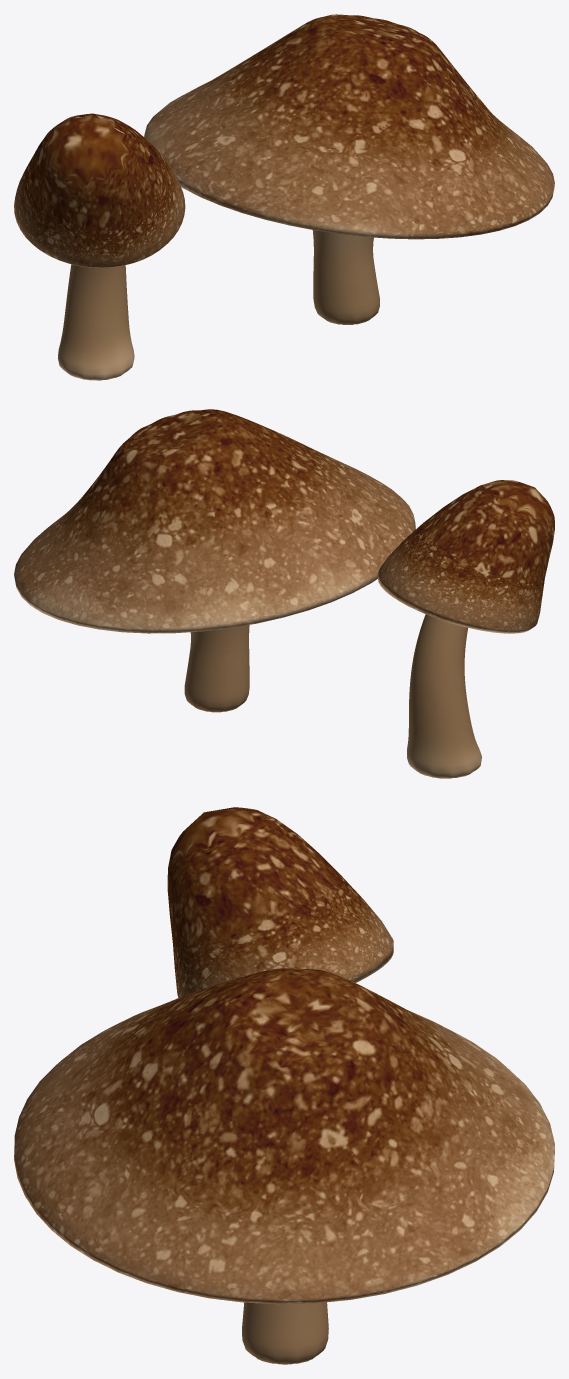
Rendered from RebelMommy1.FBX.
The picture shows the model from 3 angles, top to bottom: view 1: azimuth 30°, elevation 25°; view 2: azimuth 150°, elevation 25°; view 3: azimuth 270°, elevation 25°; orthographic projection. The views are drawn at different scales.
Visible parts, largest first — view 1: mushroomsrm; view 2: mushroomsrm; view 3: mushroomsrm.
Boxes of the visible parts, bbox=[...] form: mushroomsrm: bbox=[14, 14, 554, 380]; mushroomsrm: bbox=[14, 409, 554, 778]; mushroomsrm: bbox=[14, 807, 554, 1364].
Size of the model in its own units: 183 by 101 by 131.
